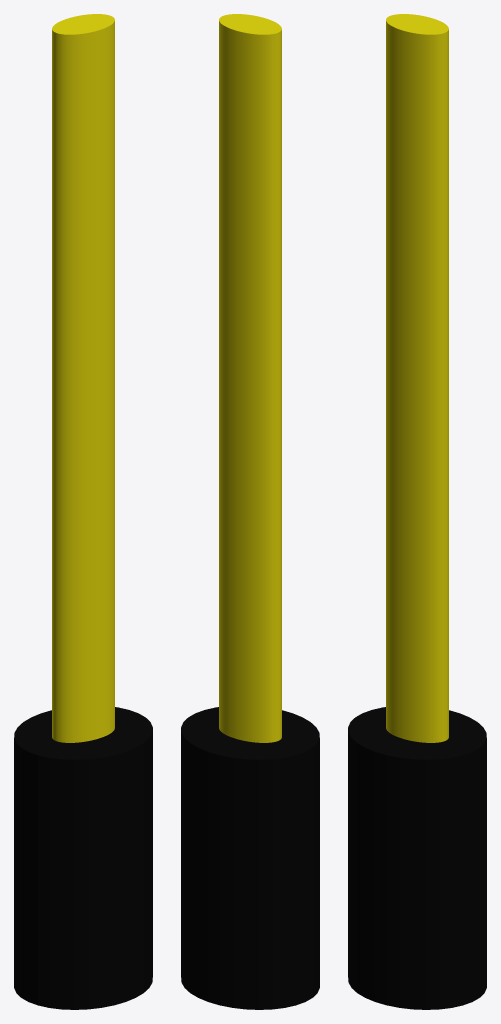
File: sord.fbx
The picture shows the model from 3 angles, left to right: view 1: azimuth 30°, elevation 25°; view 2: azimuth 150°, elevation 25°; view 3: azimuth 330°, elevation 25°; orthographic projection.
Parts seen in each view (by area): view 1: Cone, Cylinder; view 2: Cone, Cylinder; view 3: Cone, Cylinder.
Boxes of the visible parts, x1,y1,x2,y2 form: Cone: (52,14,114,742); Cylinder: (14,707,152,1009); Cone: (219,14,281,742); Cylinder: (181,707,319,1009); Cone: (386,14,448,742); Cylinder: (348,707,486,1009).
Bounding box in the file's own units: 0.4896 × 3.6 × 0.4216.
